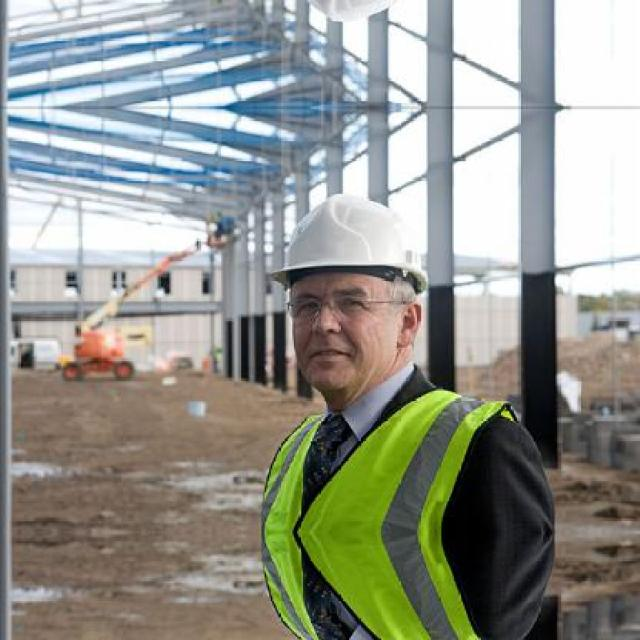helmet: (260, 166, 442, 412)
